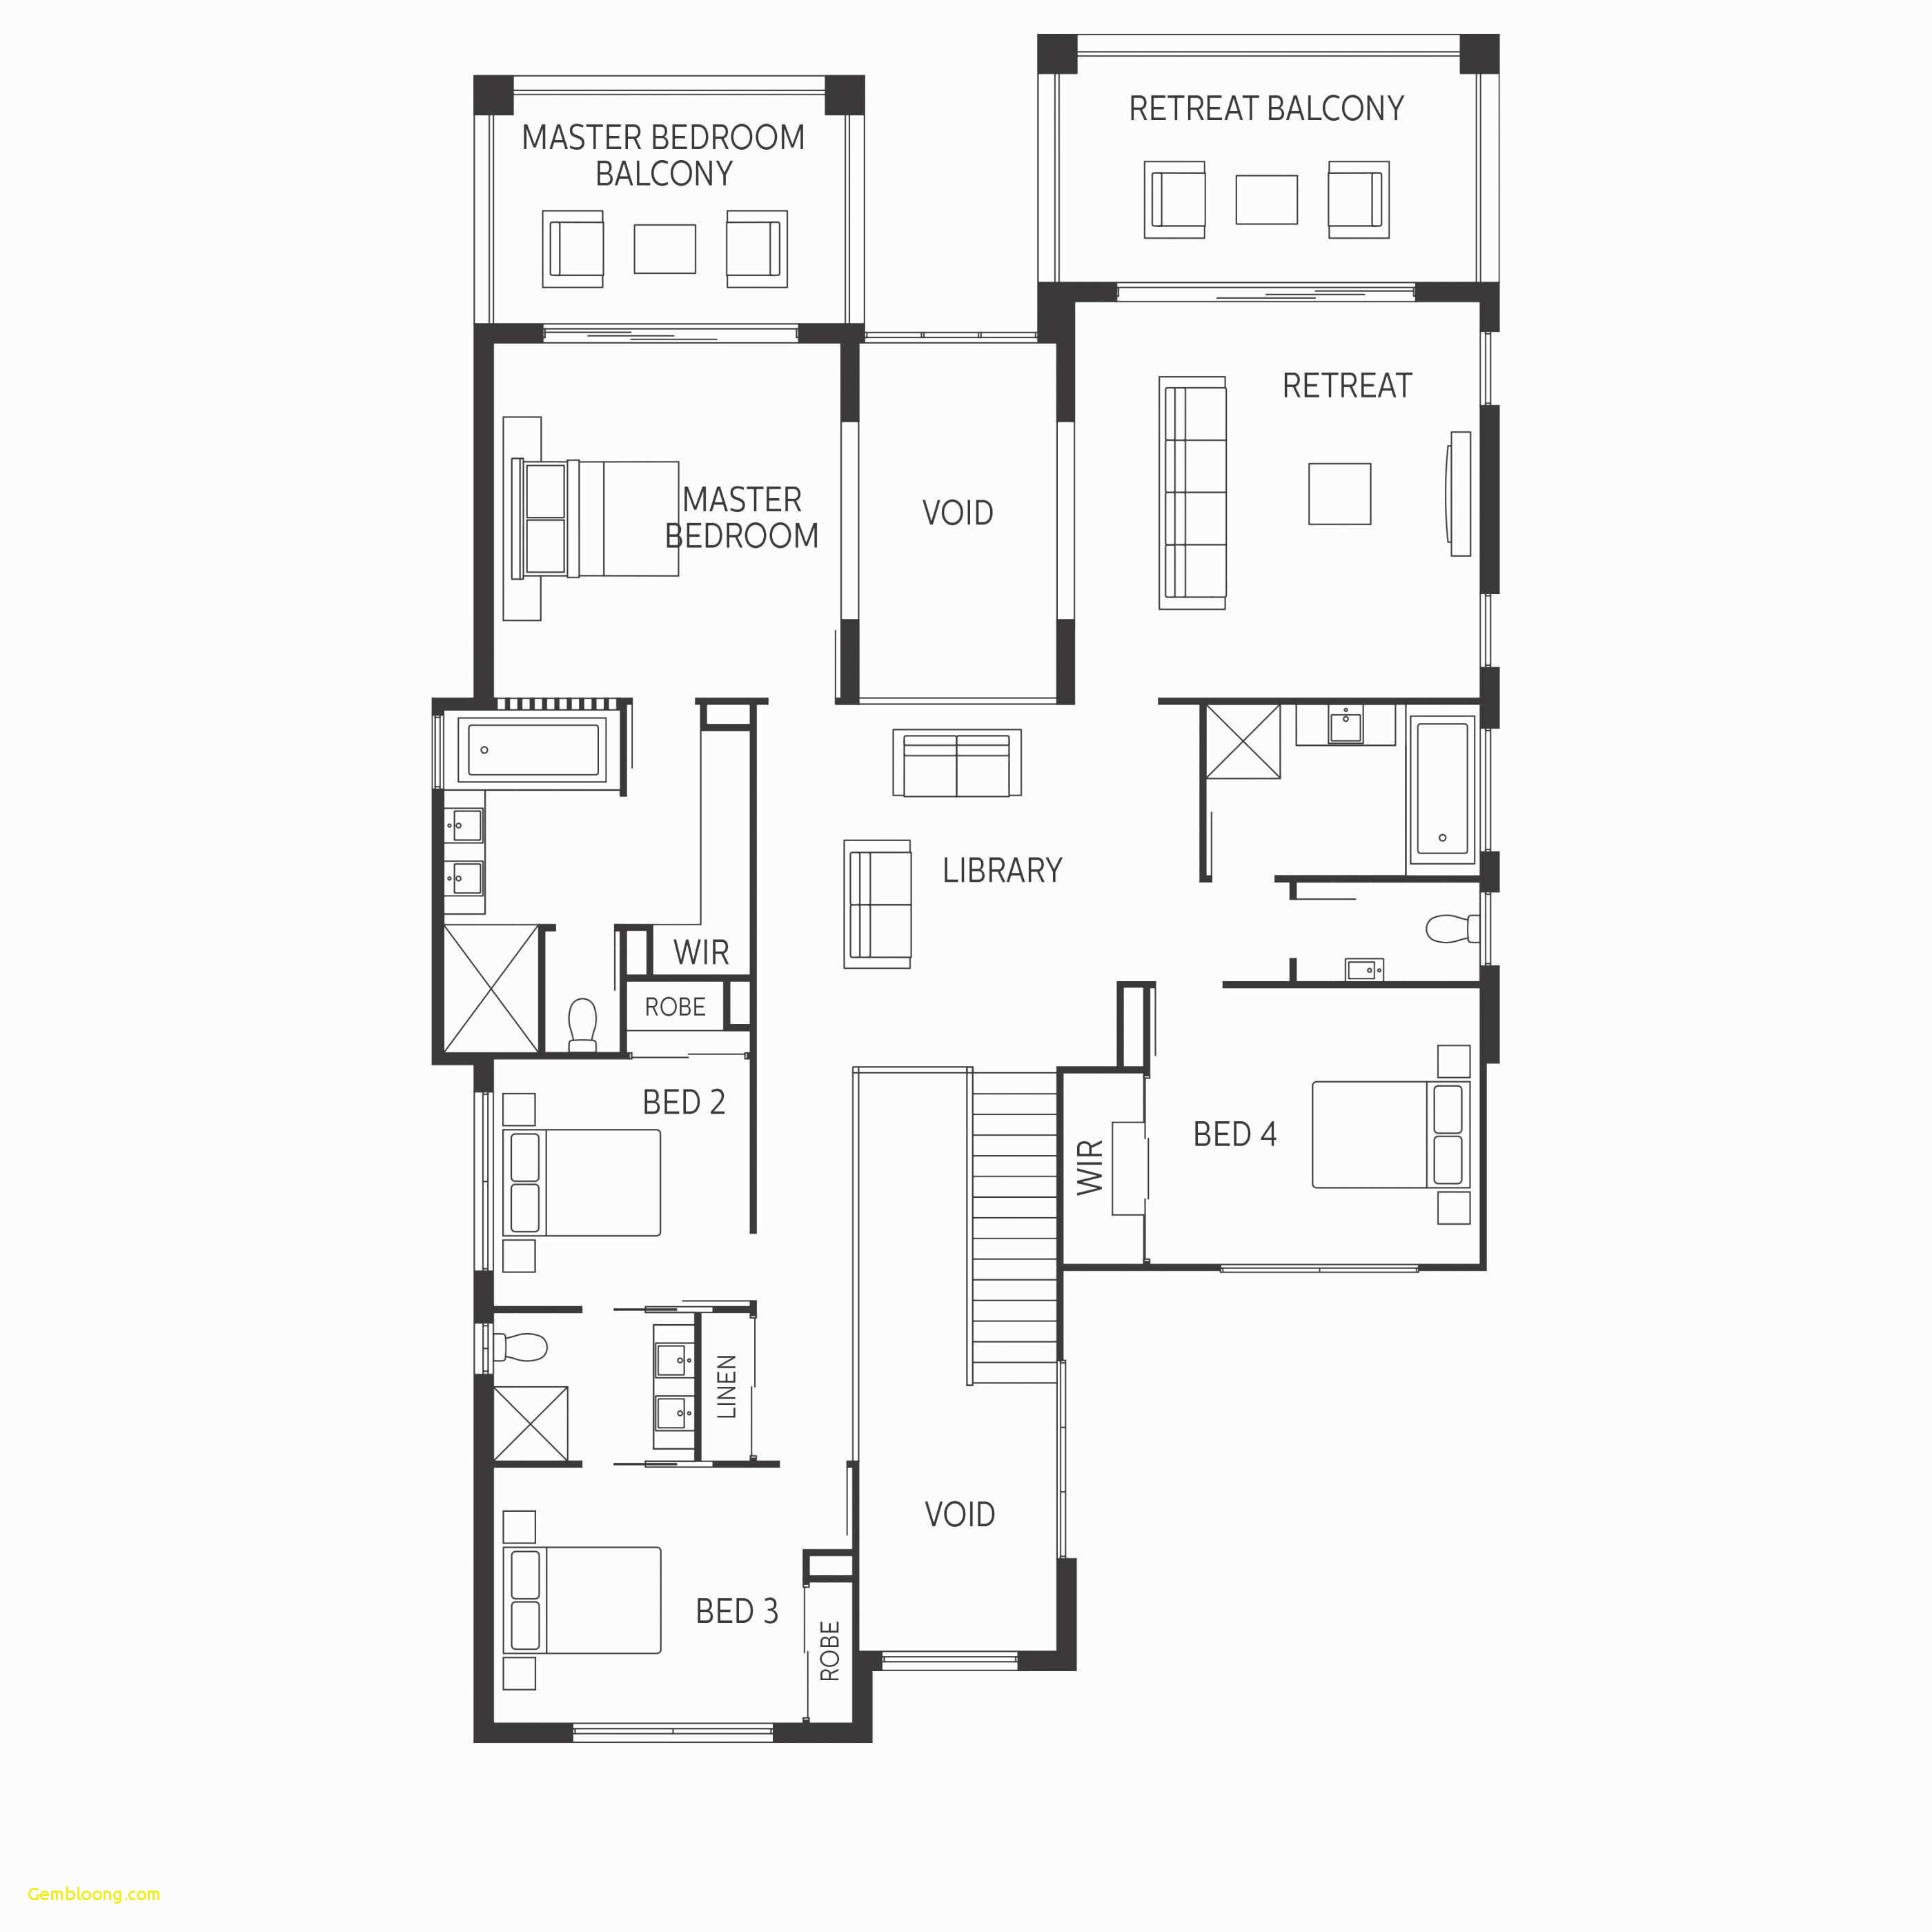room: (1051, 281, 1504, 708), (474, 317, 876, 711), (1056, 973, 1502, 1274), (425, 697, 764, 1067), (479, 1476, 870, 1743)
